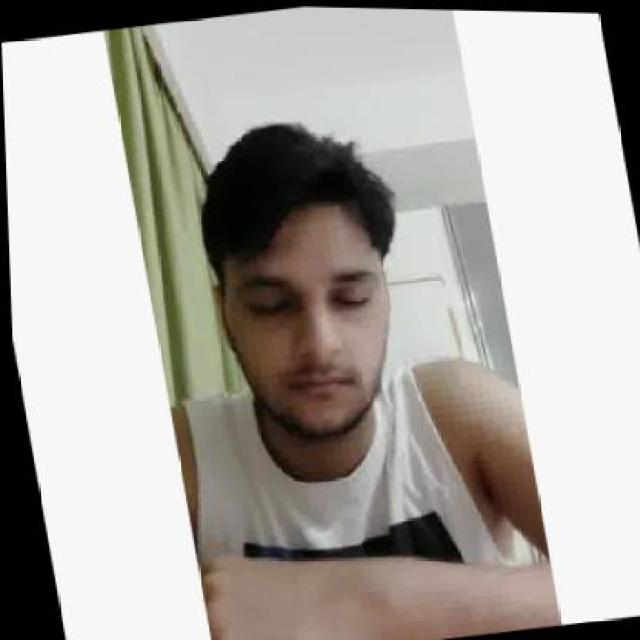inattentif: (180, 103, 415, 457)
